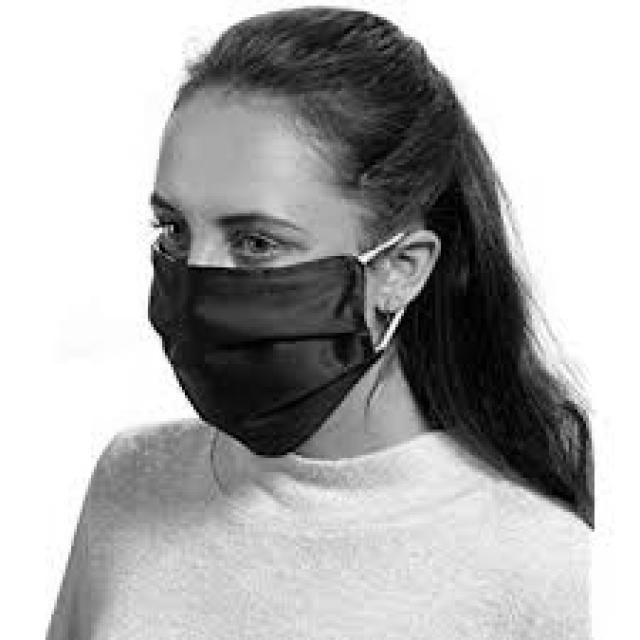fake: (102, 248, 420, 476)
real: (147, 98, 388, 463)
